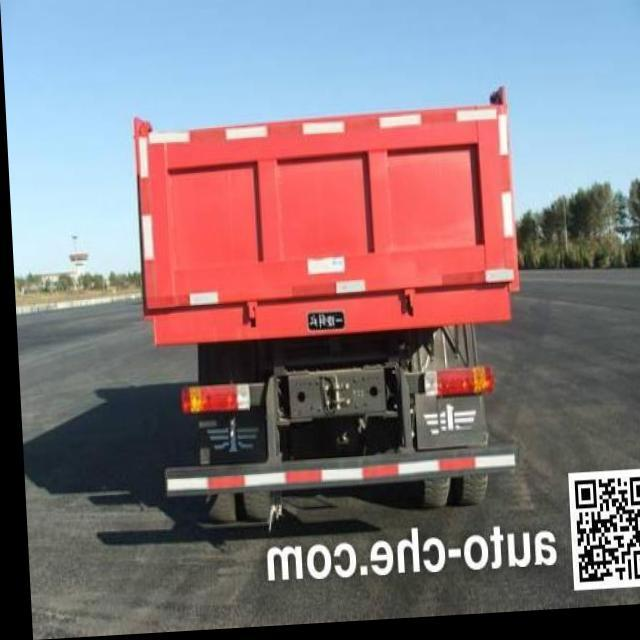uncovered: (124, 54, 528, 527)
